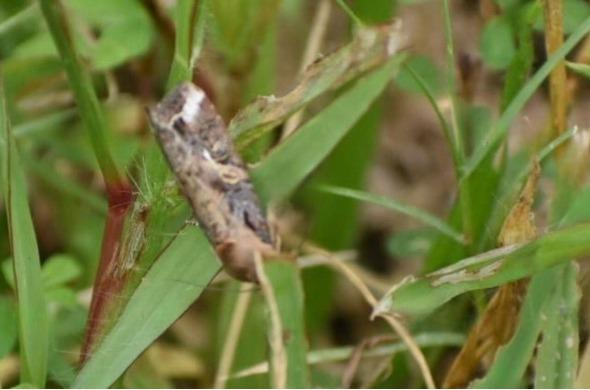army worm adult: (129, 75, 310, 298)
